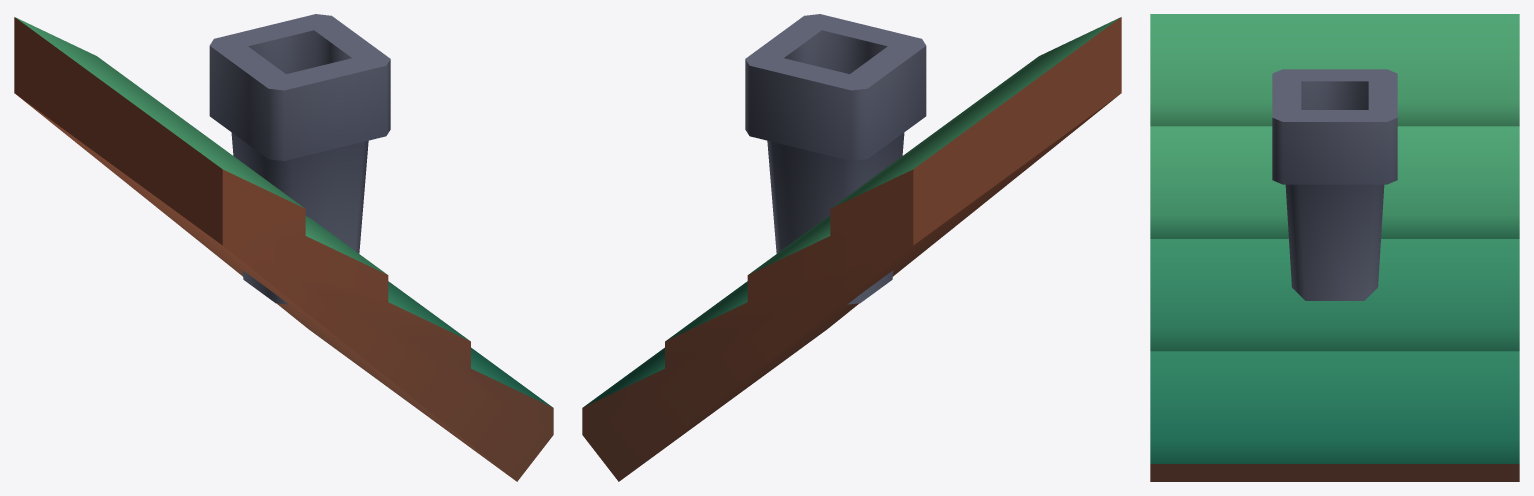
Rendered from cabin-roof-chimney.glb.
3 renders of one model, left to right at view 1: azimuth 30°, elevation 25°; view 2: azimuth 150°, elevation 25°; view 3: azimuth 270°, elevation 25°, orthographic. The views are drawn at different scales.
Parts seen in each view (by area): view 1: cabin-roof-chimney; view 2: cabin-roof-chimney; view 3: cabin-roof-chimney.
Boxes of the visible parts, bbox=[...] form: cabin-roof-chimney: bbox=[14, 14, 553, 481]; cabin-roof-chimney: bbox=[582, 14, 1121, 481]; cabin-roof-chimney: bbox=[1150, 14, 1519, 481].
Bounding box in the file's own units: 1.28 × 1.42 × 1.4.
